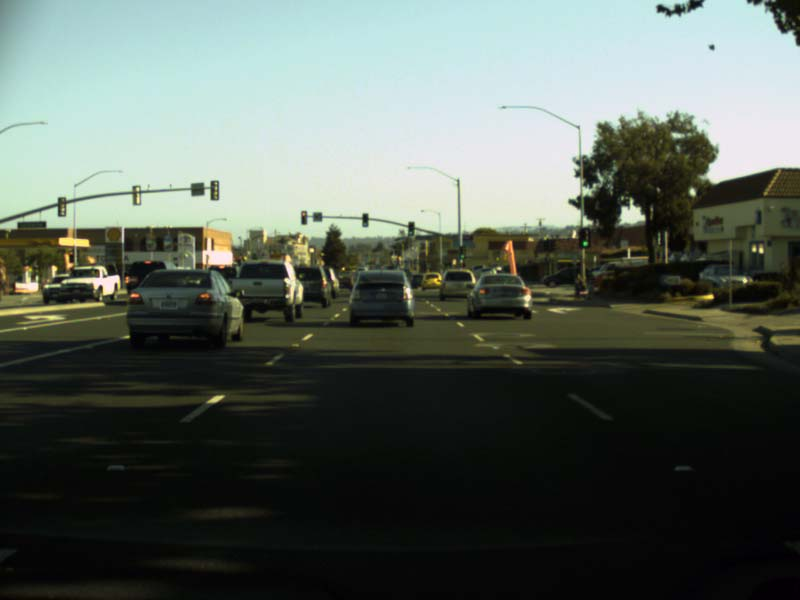Green: (580, 228, 590, 247), (361, 212, 368, 227), (408, 221, 413, 235), (459, 246, 464, 258)
Red: (300, 209, 305, 224)
